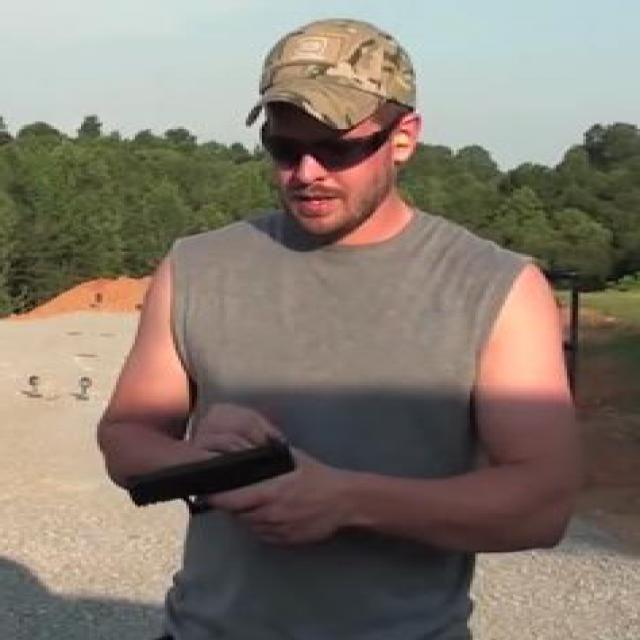Gun: (124, 432, 316, 545)
